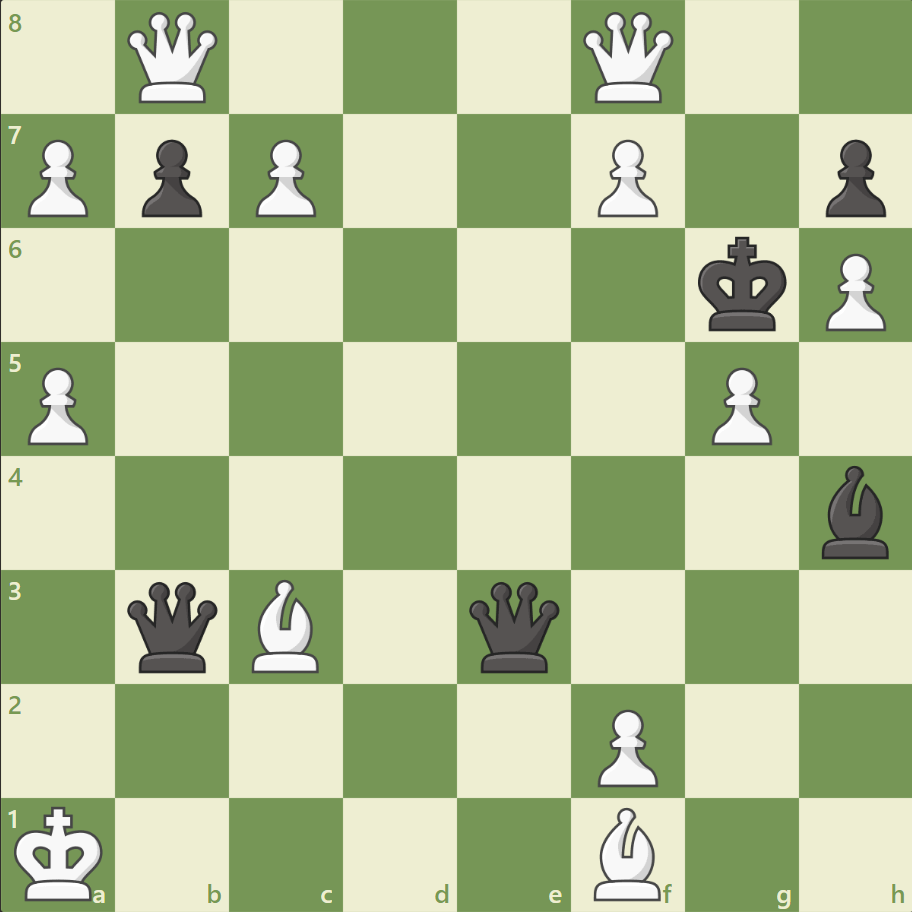B: (585, 801, 669, 904), (244, 574, 328, 676)
K: (11, 798, 111, 906)
P: (20, 132, 95, 223), (247, 132, 322, 223), (20, 359, 95, 450), (701, 359, 776, 450), (588, 132, 662, 223), (815, 246, 889, 337), (588, 700, 662, 791)
Q: (124, 9, 223, 108), (578, 9, 677, 108)
b: (812, 460, 896, 563)
k: (692, 231, 792, 339)
p: (133, 132, 208, 223), (815, 132, 889, 223)
q: (124, 576, 223, 676), (464, 576, 563, 676)
